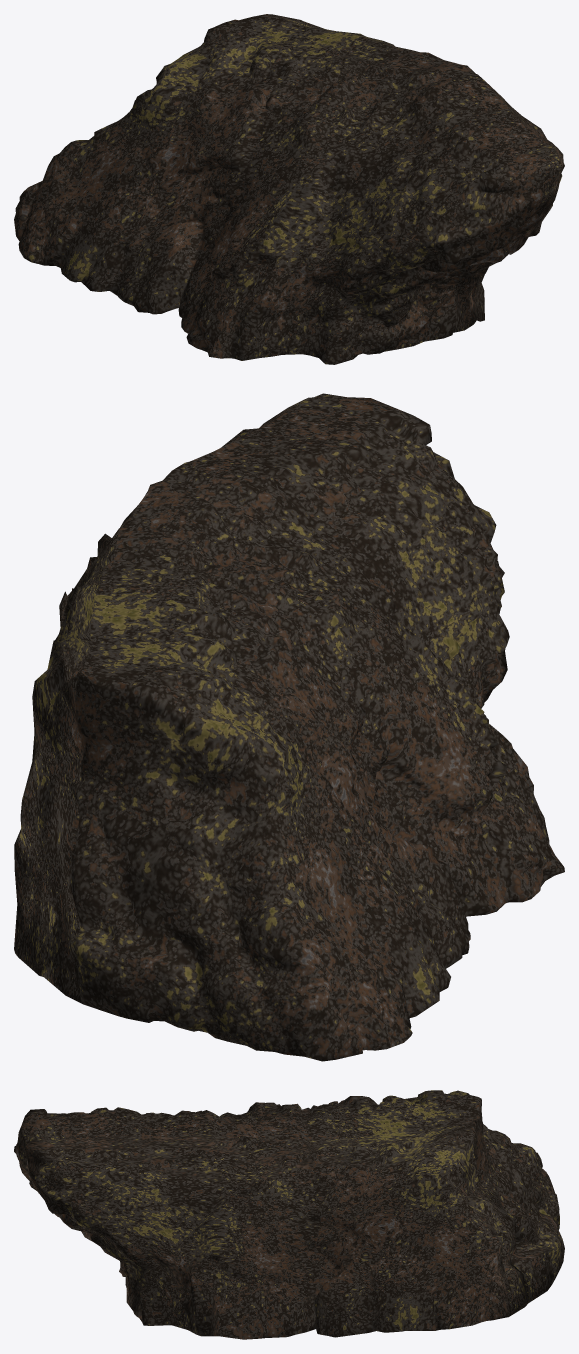
Rendered from SM_cliff_02_brown.fbx.
The picture shows the model from 3 angles, top to bottom: view 1: azimuth 30°, elevation 25°; view 2: azimuth 150°, elevation 25°; view 3: azimuth 270°, elevation 25°; orthographic projection. The views are drawn at different scales.
Visible parts, largest first — view 1: SM_cliff_02_brown_LOD0; view 2: SM_cliff_02_brown_LOD0; view 3: SM_cliff_02_brown_LOD0.
Boxes of the visible parts, x1=… form: SM_cliff_02_brown_LOD0: x1=14, y1=14, x2=564, y2=364; SM_cliff_02_brown_LOD0: x1=14, y1=393, x2=564, y2=1061; SM_cliff_02_brown_LOD0: x1=14, y1=1090, x2=564, y2=1339.
Bounding box in the file's own units: 989 × 1504 × 639.
Materials: 1 (1 with a texture image).
